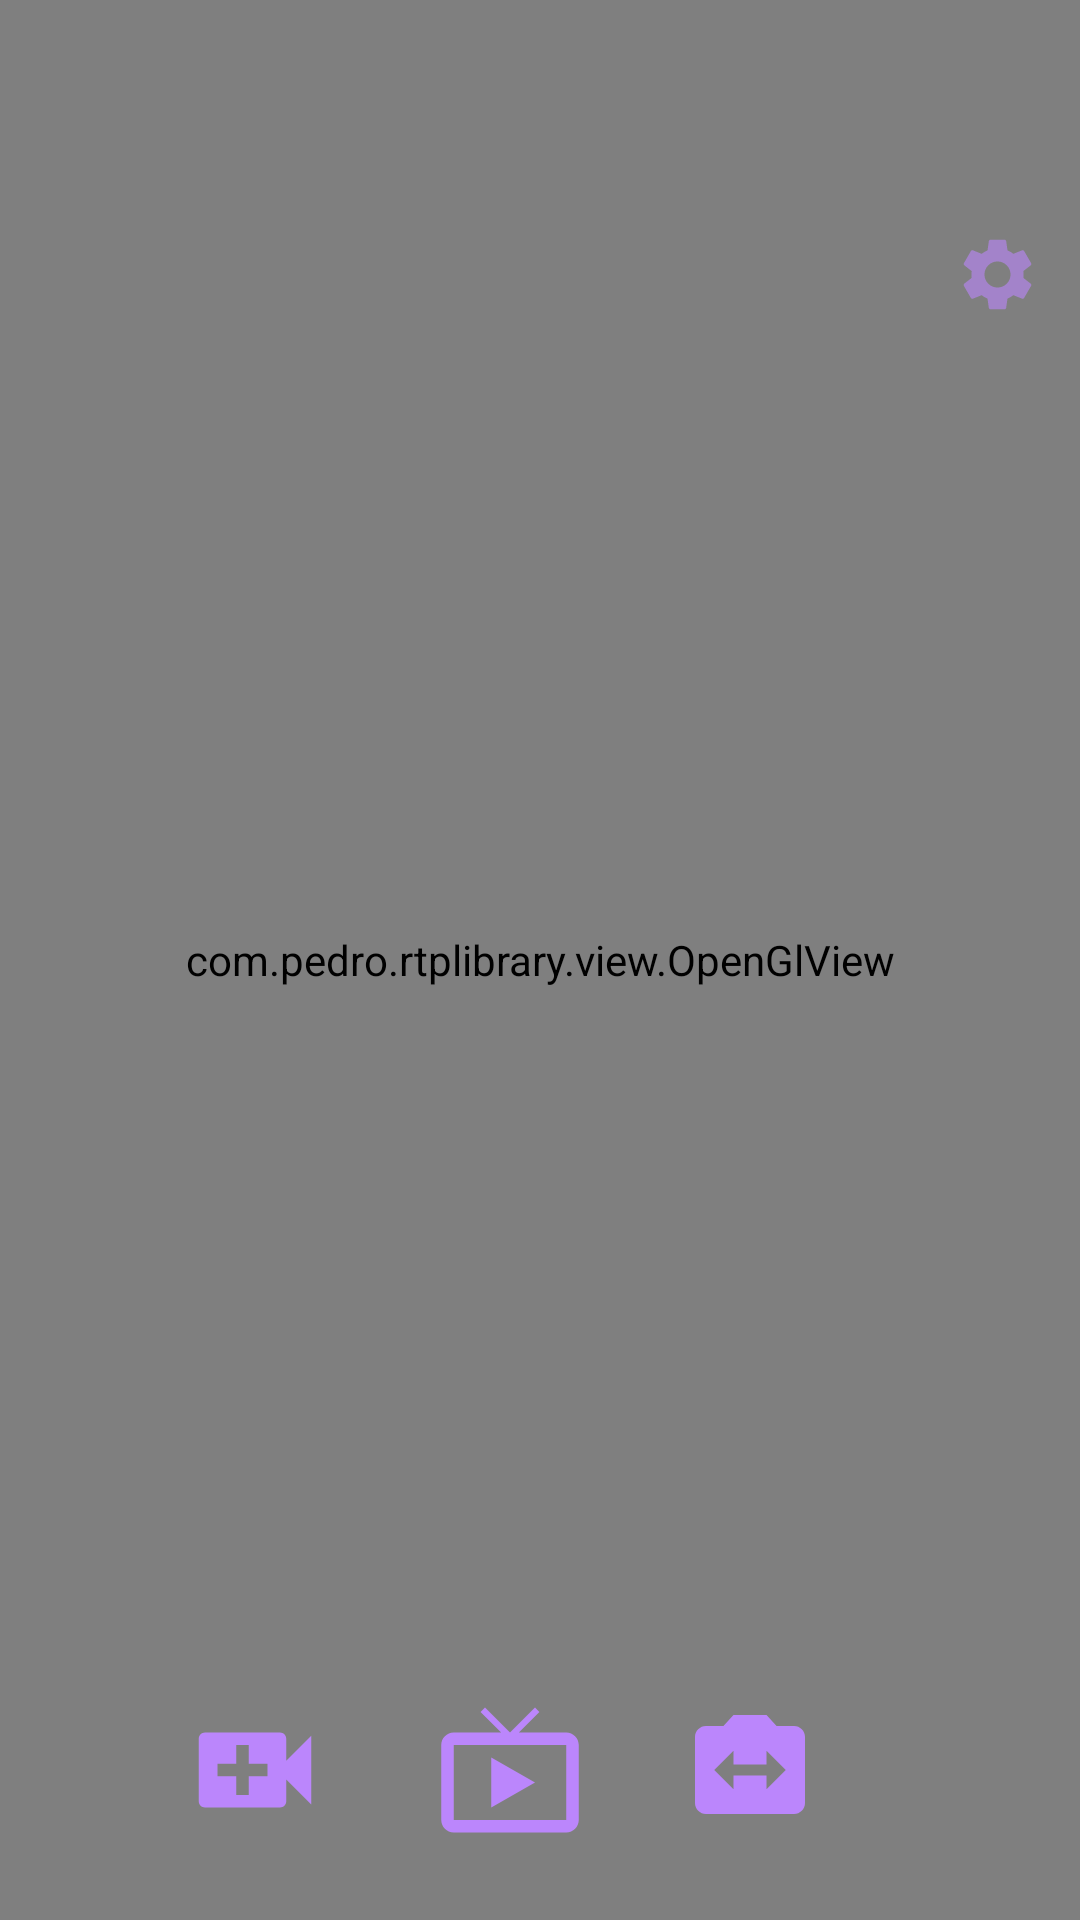

Point at icon controls on the screen. Image size 1080x1920, points as point (x, y).
live tv: point (510, 1770)
record video: point (255, 1770)
settings: point (997, 274)
switch camera: point (750, 1764)
